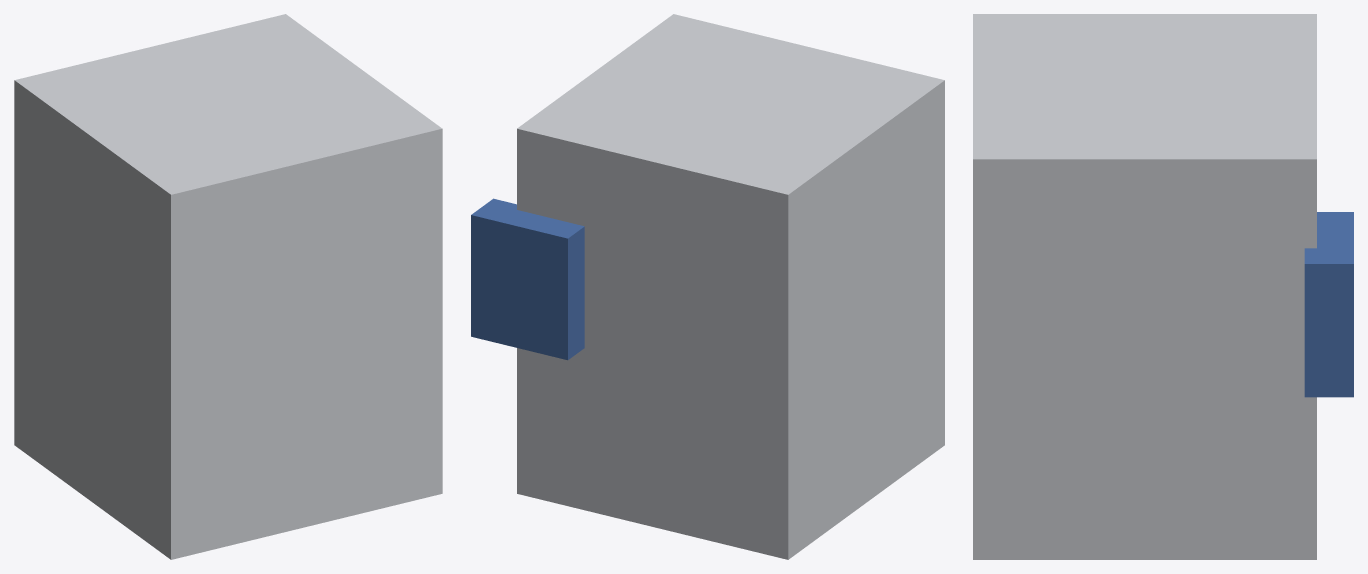
File: polar_coxa.glb
3 views of the same model, side by side, from view 1: azimuth 30°, elevation 25°; view 2: azimuth 150°, elevation 25°; view 3: azimuth 270°, elevation 25° (orthographic). The views are drawn at different scales.
Visible parts, largest first — view 1: polar_coxa; view 2: polar_coxa; view 3: polar_coxa.
Boxes of the visible parts, bbox=[...] form: polar_coxa: bbox=[14, 14, 442, 559]; polar_coxa: bbox=[471, 14, 944, 559]; polar_coxa: bbox=[973, 14, 1353, 559].
Size of the model in its own units: 0.31 by 0.36 by 0.31.
